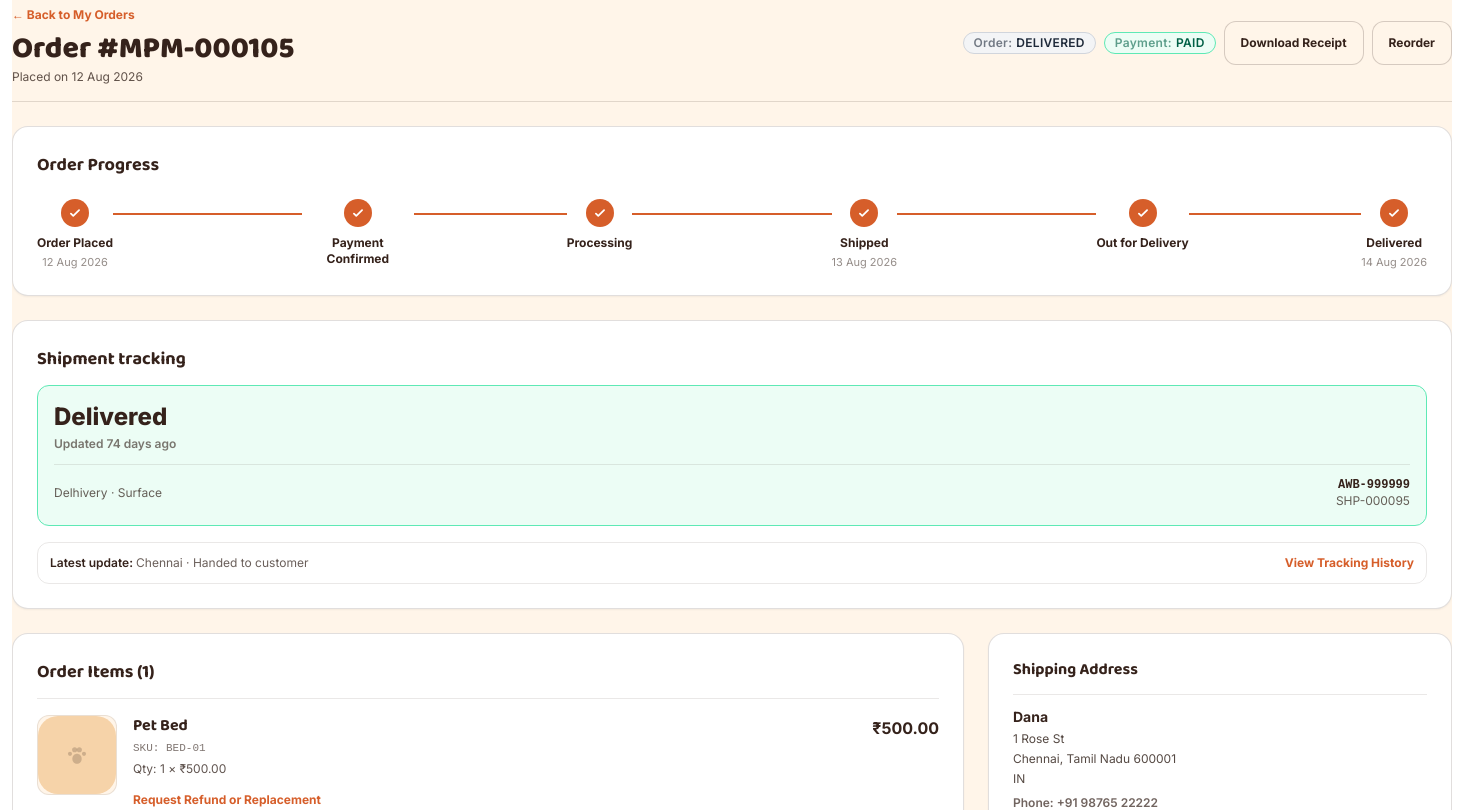
Test: Order Detail Page & Client Tests › 6. Collapses the tracking history for a delivered shipment, expandable via View Tracking History
The width and height of the screenshot is (1464, 810).
Expected: the text "AWB-999999" is shown, [1336,477,1410,493]
Expected: the text "Latest update: Chennai · Handed to customer" is shown, [50,555,308,571]
Step 1. Click the button "View Tracking History" → [1349, 563], box [1285,555,1414,571]
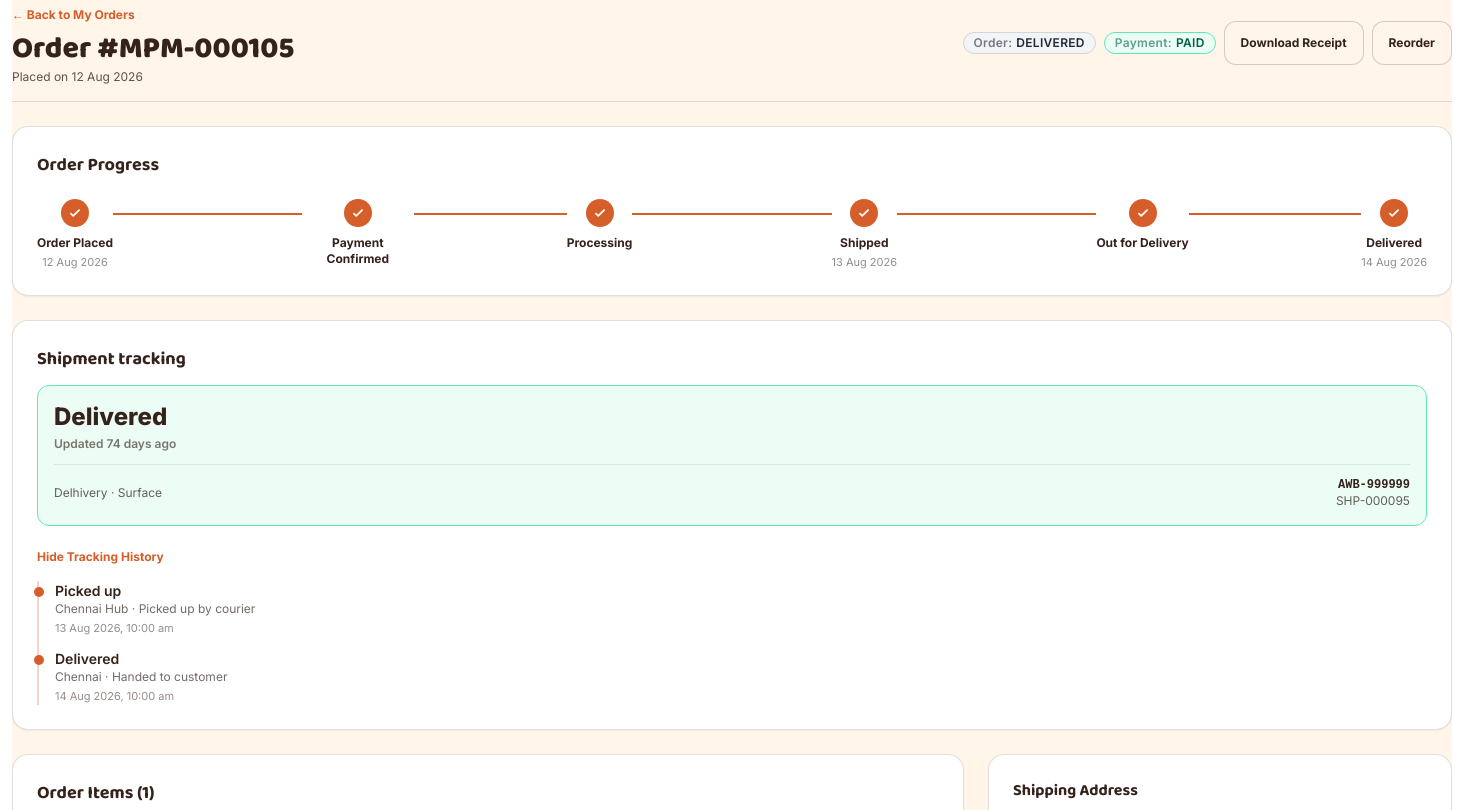
Expected: the text "Chennai Hub · Picked up by courier" is shown, [55,601,255,616]
Expected: the button "Hide Tracking History" is shown, [37,549,164,565]
